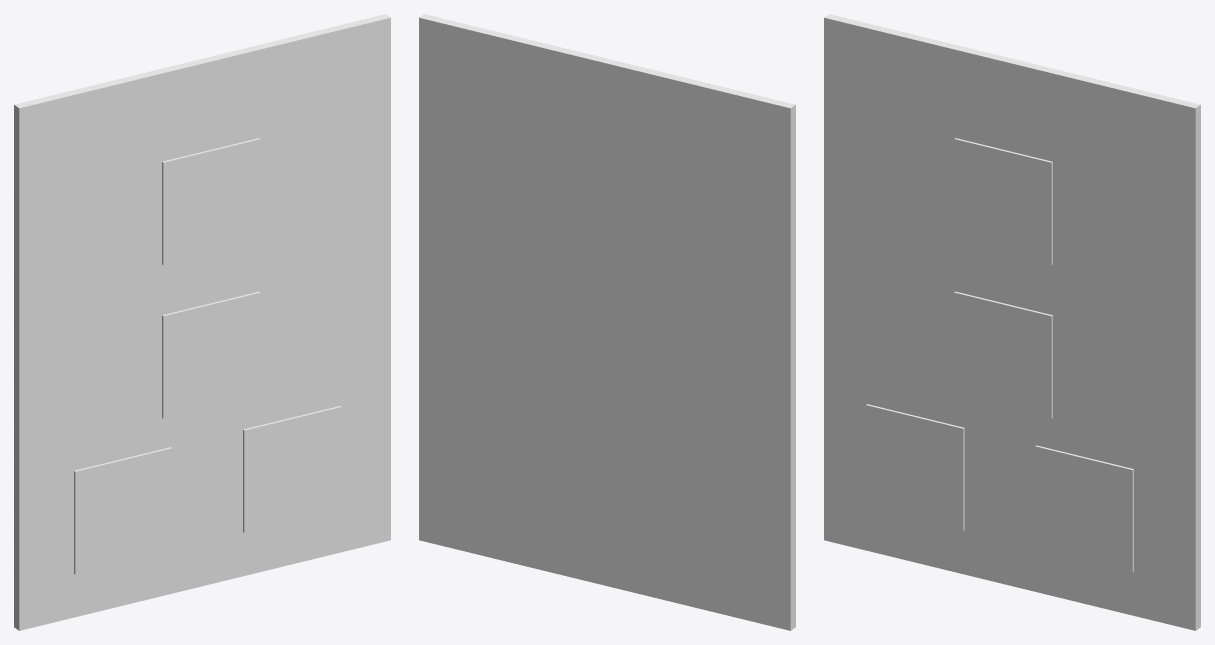
Rendered from Lift_Panel_Mrt.fbx.
The picture shows the model from 3 angles, left to right: view 1: azimuth 30°, elevation 25°; view 2: azimuth 150°, elevation 25°; view 3: azimuth 330°, elevation 25°; orthographic projection.
Visible parts, largest first — view 1: Lift_Panel, Button_1, Button_B, Button_Open, Button_Close; view 2: Lift_Panel; view 3: Lift_Panel, Button_1, Button_B, Button_Close, Button_Open.
Boxes of the visible parts, left/top/right/bottom form: Lift_Panel: left=14, top=14, right=390, bottom=630; Button_1: left=162, top=138, right=260, bottom=265; Button_B: left=162, top=291, right=260, bottom=418; Button_Open: left=74, top=447, right=172, bottom=574; Button_Close: left=243, top=406, right=341, bottom=533; Lift_Panel: left=419, top=14, right=795, bottom=630; Lift_Panel: left=824, top=14, right=1200, bottom=630; Button_1: left=954, top=138, right=1052, bottom=265; Button_B: left=954, top=291, right=1052, bottom=418; Button_Close: left=1035, top=445, right=1133, bottom=572; Button_Open: left=866, top=404, right=964, bottom=531.
Bounding box in the file's own units: 36.44 × 48.98 × 2.07.
